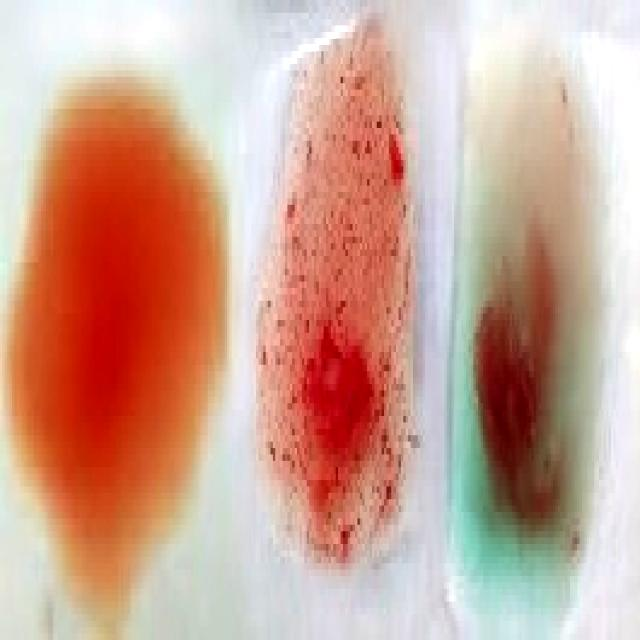D: (268, 37, 414, 577)
